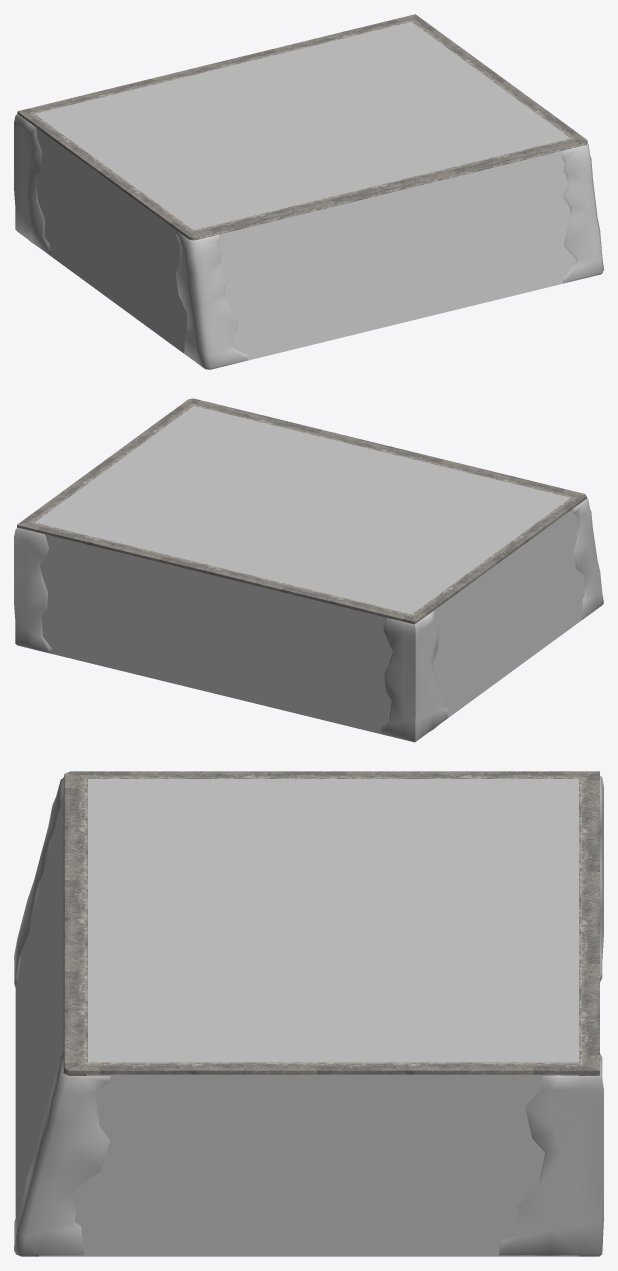
The model's file is JpHouseJ_StoneWall_03a.fbx.
3 views of the same model, one above another, from view 1: azimuth 30°, elevation 25°; view 2: azimuth 150°, elevation 25°; view 3: azimuth 270°, elevation 25° (orthographic). The views are drawn at different scales.
Parts seen in each view (by area): view 1: JpHouseJ_StoneWall_03a; view 2: JpHouseJ_StoneWall_03a; view 3: JpHouseJ_StoneWall_03a.
Boxes of the visible parts, x1,y1,x2,y2 form: JpHouseJ_StoneWall_03a: (14, 14, 603, 369); JpHouseJ_StoneWall_03a: (14, 398, 603, 742); JpHouseJ_StoneWall_03a: (14, 771, 603, 1256).
Bounding box in the file's own units: 13.44 × 3.85 × 11.09.
